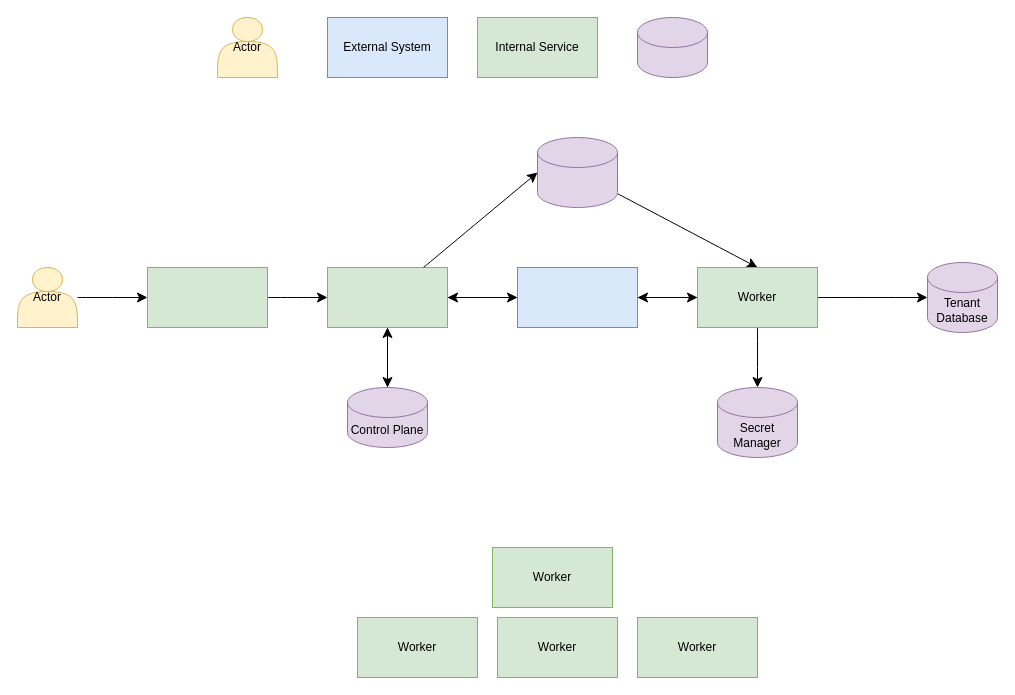
Image size: 1015x695. Some labels were removed from this diagram. Each missing label, with the centre of its shape:
"Control Plane Service" goes at (x=387, y=297).
"Data Store" goes at (x=672, y=47).
"Kafka" goes at (x=577, y=297).
"Key Manager [ AWS KMS]" goes at (x=577, y=172).
"LB" goes at (x=207, y=297).
